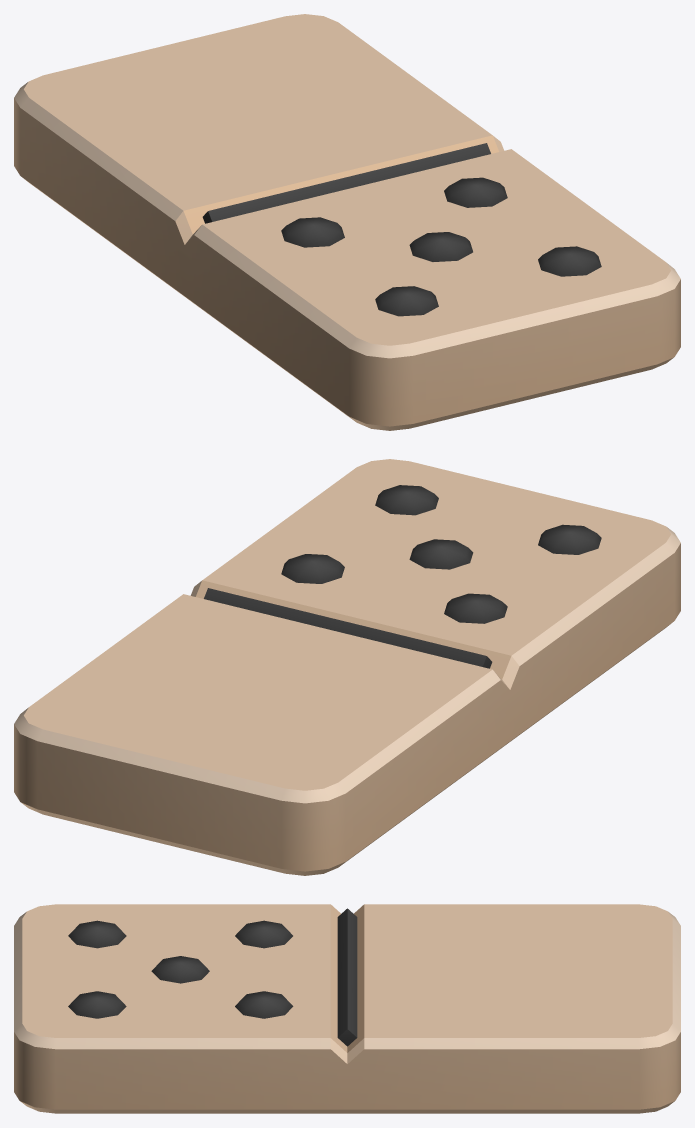
The model's file is domino_tile_0-5.obj.
3 renders of one model, top to bottom at view 1: azimuth 30°, elevation 25°; view 2: azimuth 150°, elevation 25°; view 3: azimuth 270°, elevation 25°, orthographic. The views are drawn at different scales.
Parts seen in each view (by area): view 1: domino_tile_0-5; view 2: domino_tile_0-5; view 3: domino_tile_0-5.
Part boxes in pixels (x1,y1,x2,y2): domino_tile_0-5: [14, 14, 680, 430]; domino_tile_0-5: [14, 459, 680, 875]; domino_tile_0-5: [14, 904, 680, 1113].
Size of the model in its own units: 1 by 0.2767 by 2.
Materials: 1 (1 with a texture image).
